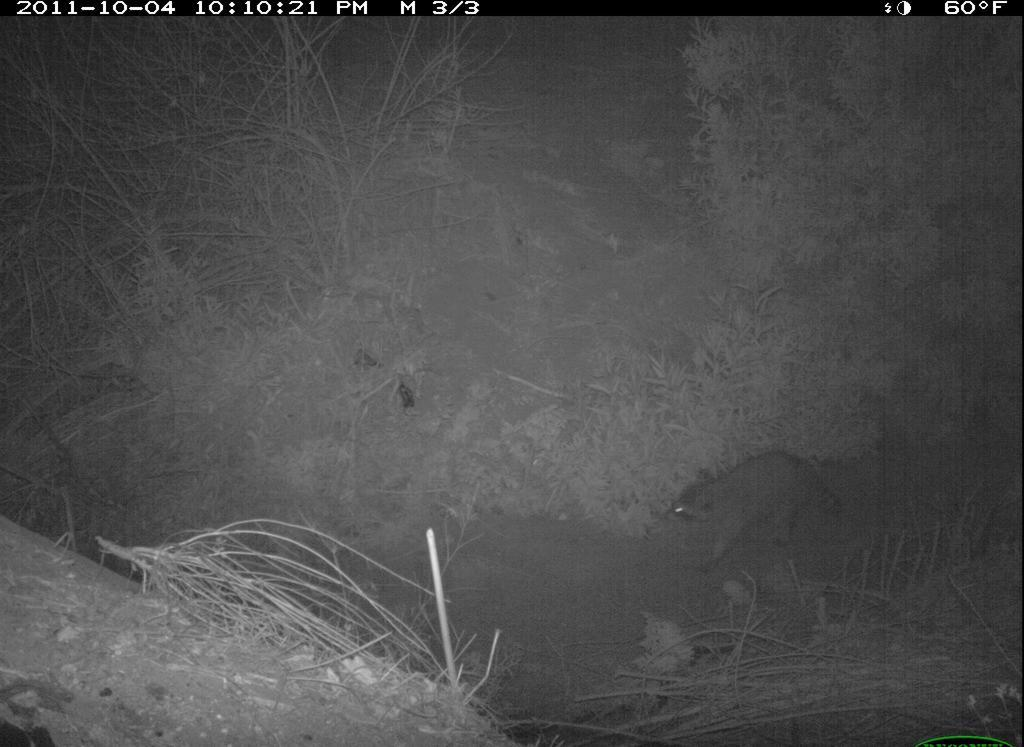raccoon: (664, 445, 848, 573)
